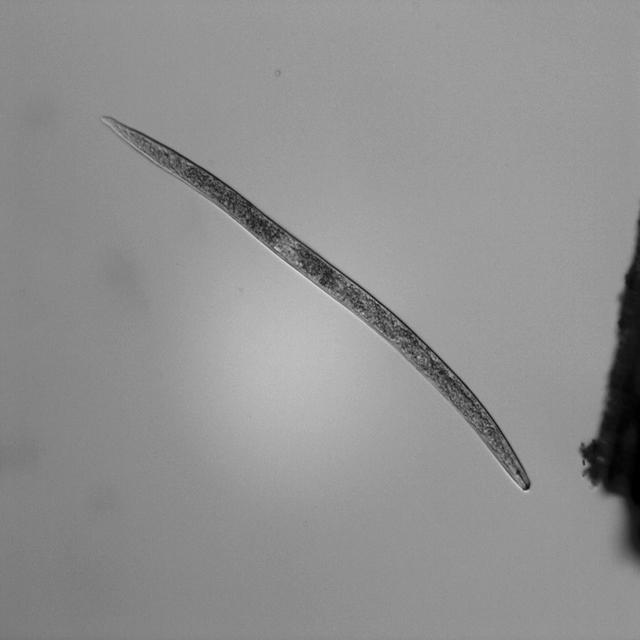Radopholus: (88, 111, 534, 497)
